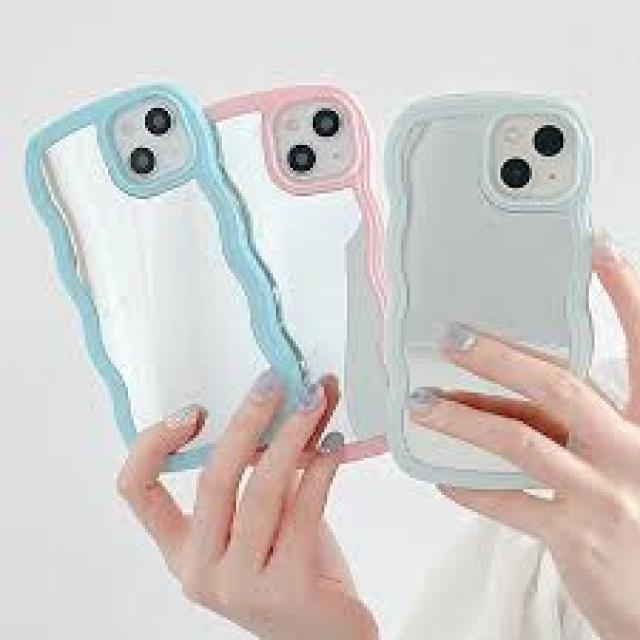Phone: (21, 91, 310, 469), (385, 94, 593, 486), (203, 83, 395, 463)
